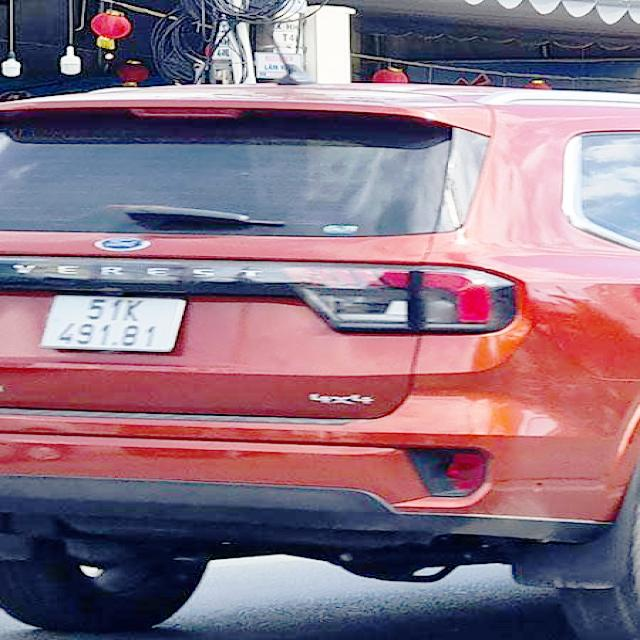license_plate: (43, 294, 186, 351)
